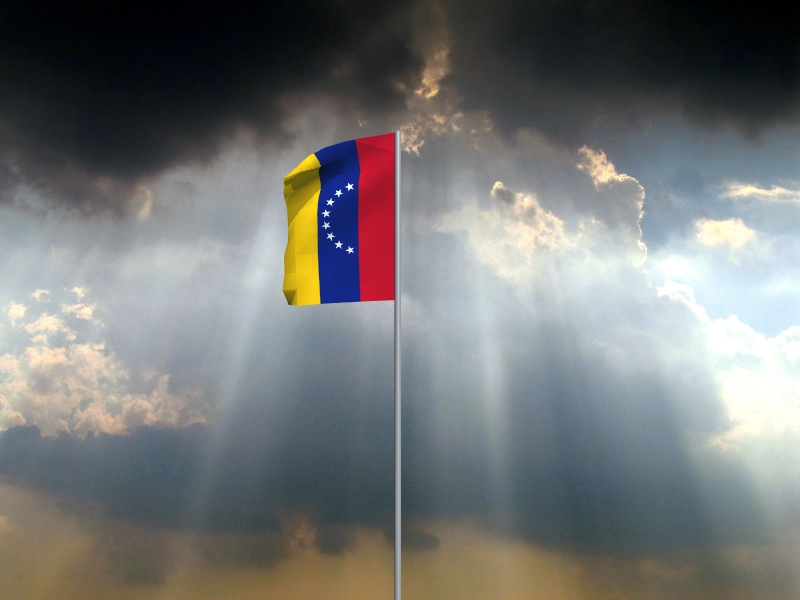ve: (281, 134, 394, 308)
